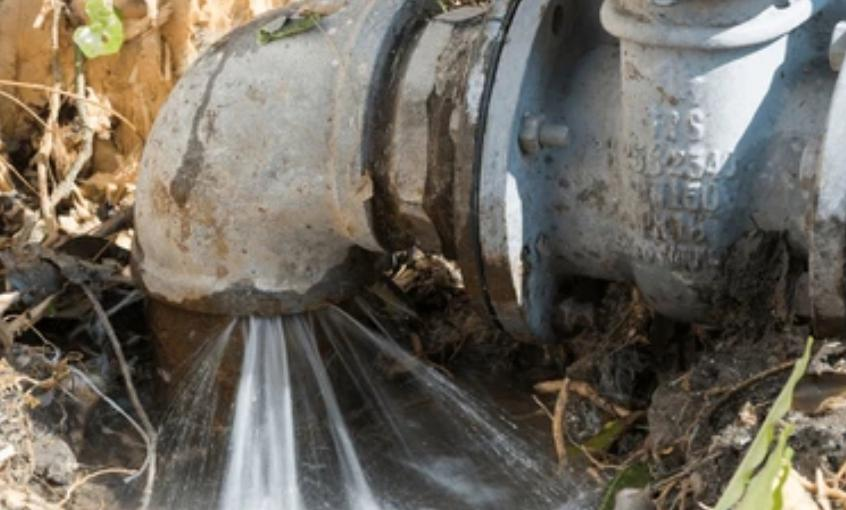pipe burst: (189, 301, 581, 510)
